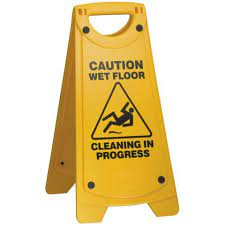wet caution sign: (51, 5, 179, 222)
